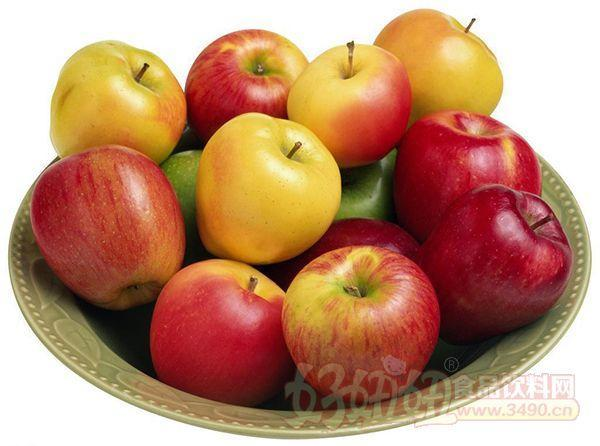apple: (24, 145, 188, 308), (282, 244, 438, 402), (193, 113, 341, 264), (147, 258, 291, 408), (427, 184, 569, 335), (389, 108, 544, 236), (48, 39, 185, 165), (286, 39, 412, 167), (182, 28, 308, 148), (369, 7, 502, 120)
